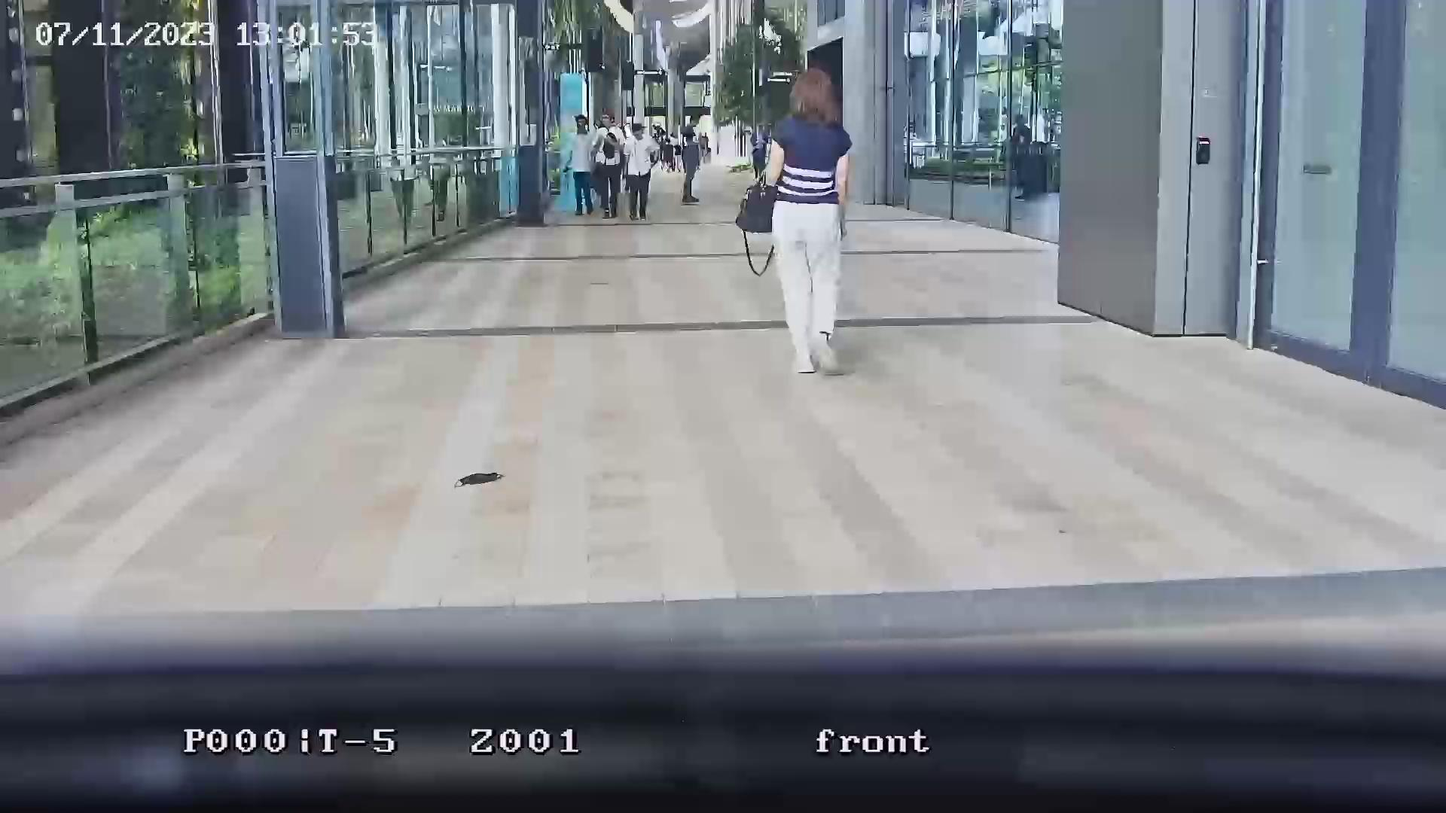person: (764, 66, 853, 375), (621, 122, 660, 221), (566, 114, 598, 217), (593, 116, 622, 218), (679, 117, 703, 205), (654, 125, 673, 170)
